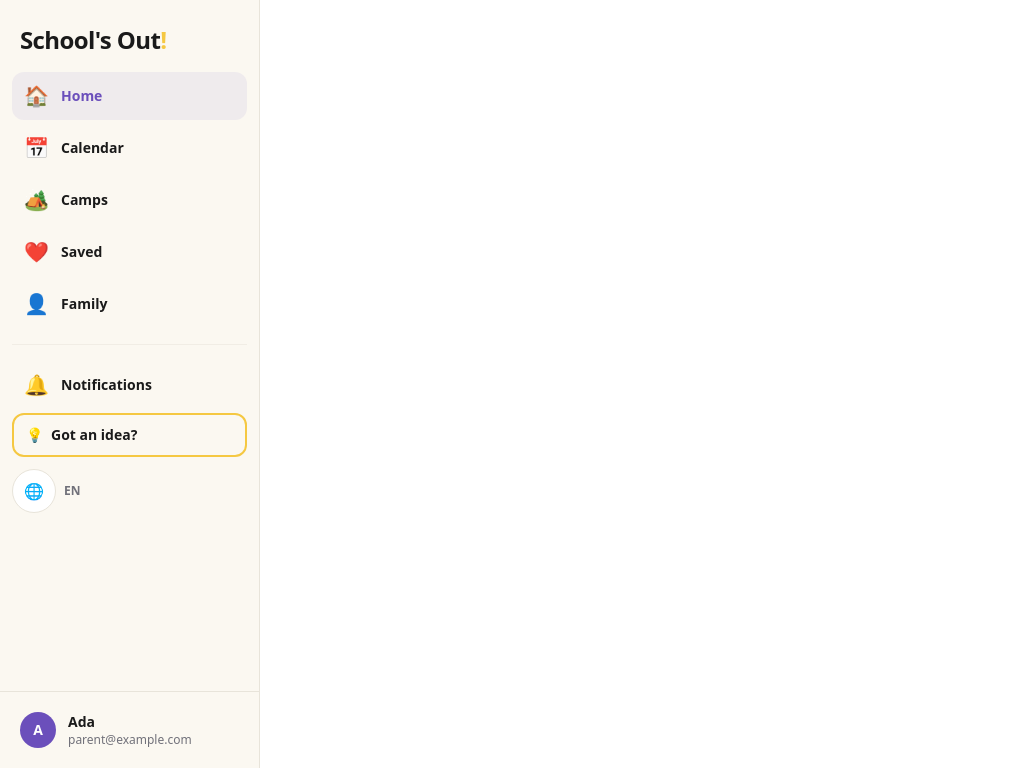
it: app/SideNav › opens the NotificationsDrawer when the bell is clicked
This screenshot has width=1024, height=768.
Click the button with aria-label "open notifications". click: (130, 385)
box: [12,361,247,409]
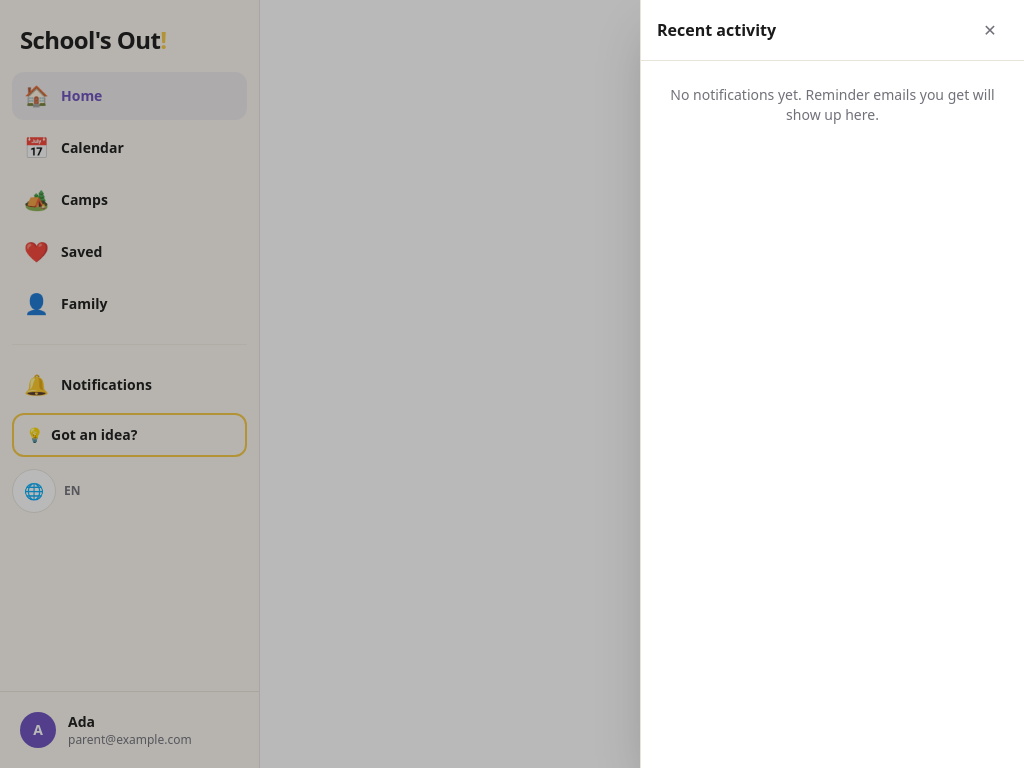
Expected: the dialog is shown, [640,0,1023,767]
Expected: the button with aria-label "open notifications" is expanded, [12,361,247,409]
